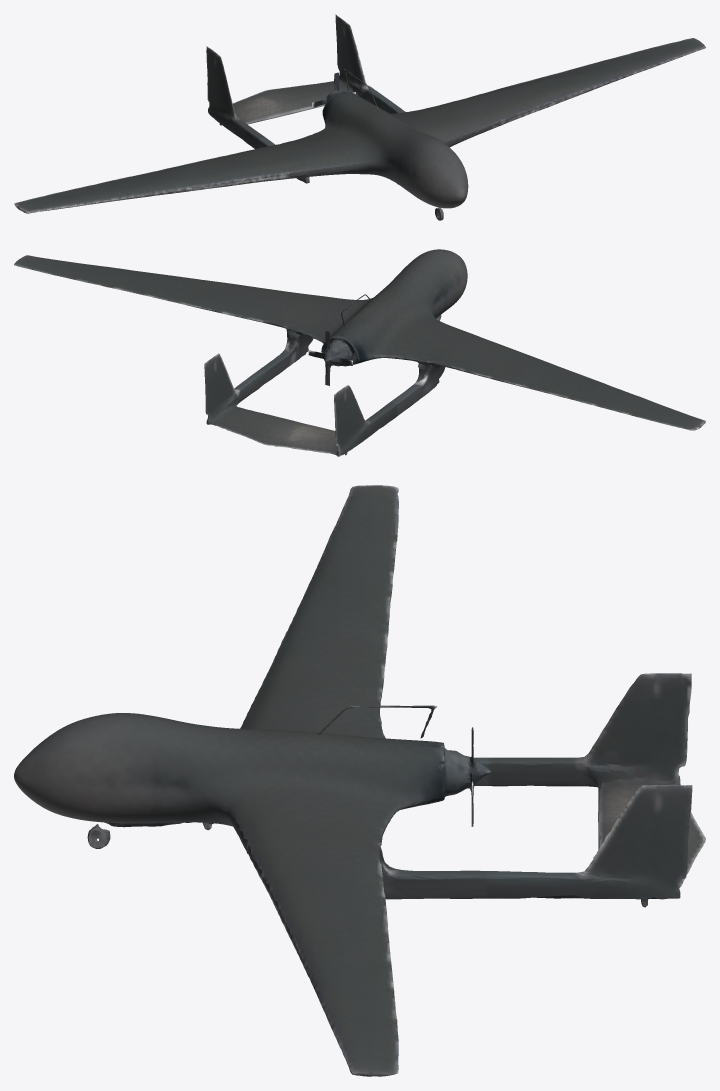
The model's file is BZK-005_Recon_UAV_AI_Rodin.glb.
3 renders of one model, top to bottom at view 1: azimuth 30°, elevation 25°; view 2: azimuth 150°, elevation 25°; view 3: azimuth 270°, elevation 25°, orthographic. The views are drawn at different scales.
Visible parts, largest first — view 1: model; view 2: model; view 3: model.
Part boxes in pixels (bbox=[...]): model: bbox=[14, 14, 705, 220]; model: bbox=[14, 249, 705, 456]; model: bbox=[14, 485, 705, 1076].
Size of the model in its own units: 1.9 by 0.2246 by 0.9436.
Materials: 1 (1 with a texture image).
